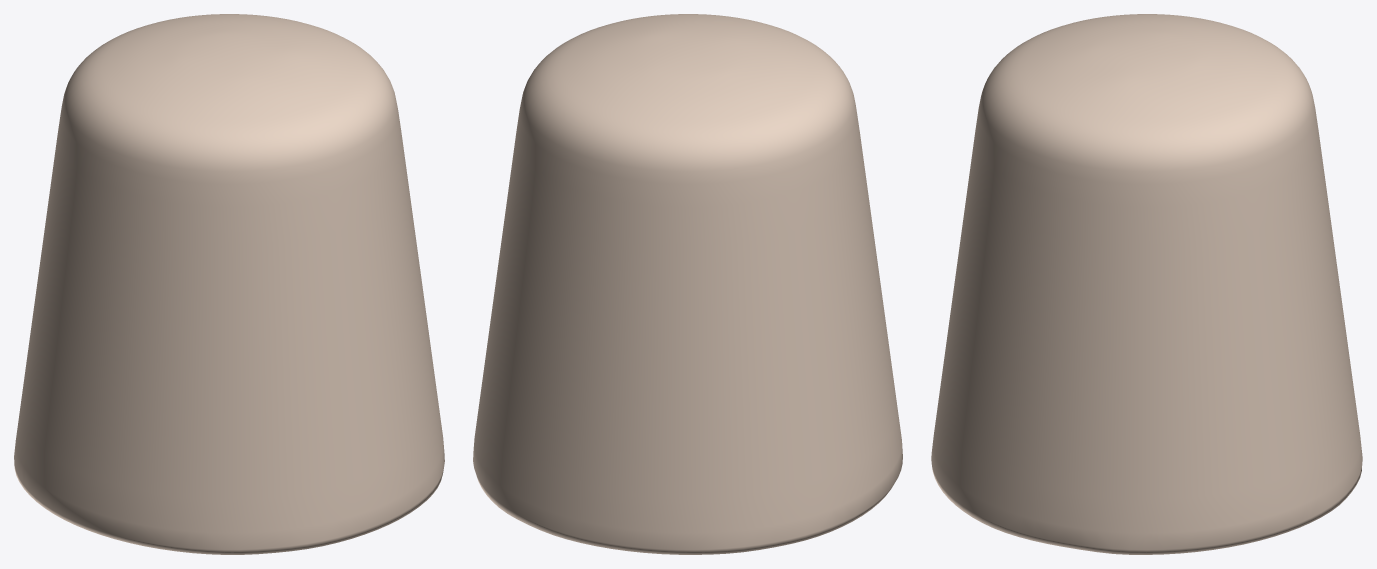
Rendered from woodBottom_low.fbx.
3 views of the same model, side by side, from view 1: azimuth 30°, elevation 25°; view 2: azimuth 150°, elevation 25°; view 3: azimuth 270°, elevation 25° (orthographic).
Visible parts, largest first — view 1: WoodBottom_low; view 2: WoodBottom_low; view 3: WoodBottom_low.
Part boxes in pixels (box(x1,y1,x2,y2)): WoodBottom_low: box(14, 14, 444, 554); WoodBottom_low: box(473, 14, 902, 554); WoodBottom_low: box(931, 14, 1362, 554).
Bounding box in the file's own units: 18.7 × 19.76 × 18.74.
